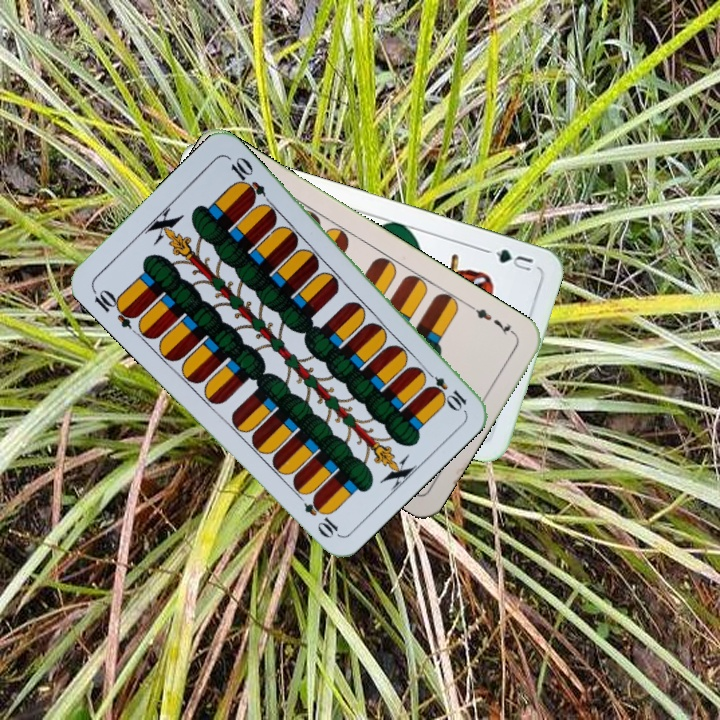E10: (419, 365, 470, 413), (88, 284, 140, 331)
E7: (466, 301, 519, 339)
GU: (491, 245, 536, 274)
